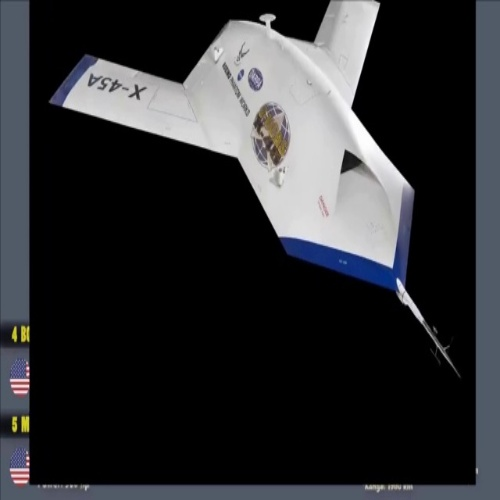uav: (49, 1, 463, 380)
